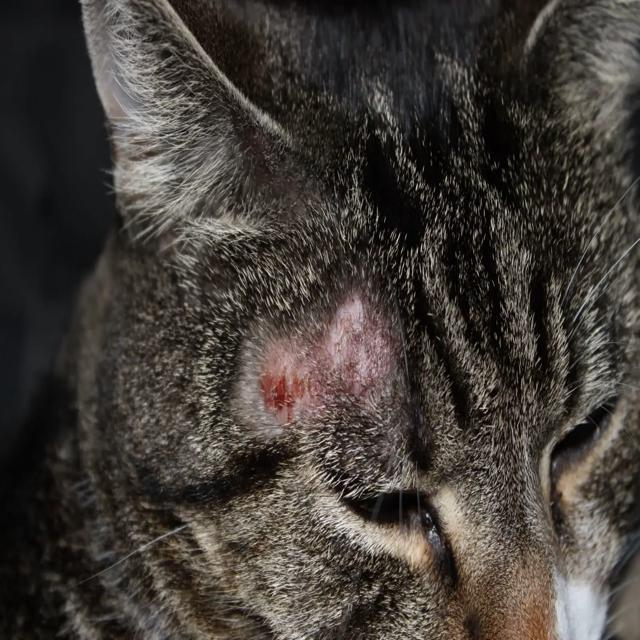ringworm: (237, 310, 388, 418)
